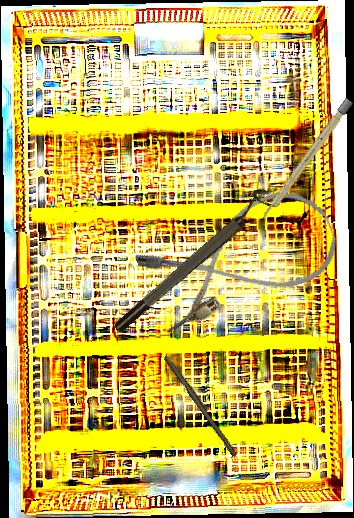Cannula: (132, 178, 347, 338)
Fixation Ring: (104, 183, 281, 337)
Scalpel Handle: (258, 97, 354, 224), (161, 353, 241, 458)
